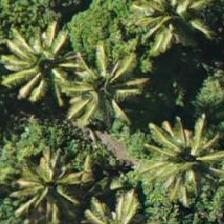coconut_tree: (68, 47, 158, 137), (0, 23, 83, 113), (0, 135, 83, 223), (150, 115, 223, 205), (80, 162, 170, 223), (122, 0, 212, 59)
